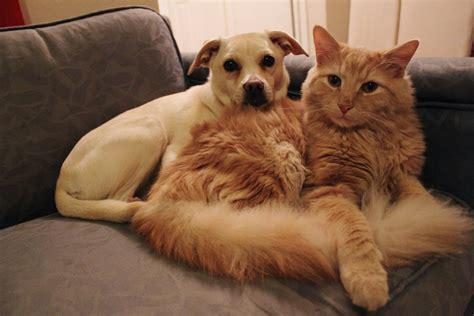cat: (132, 25, 463, 308)
dog: (54, 30, 307, 221)
